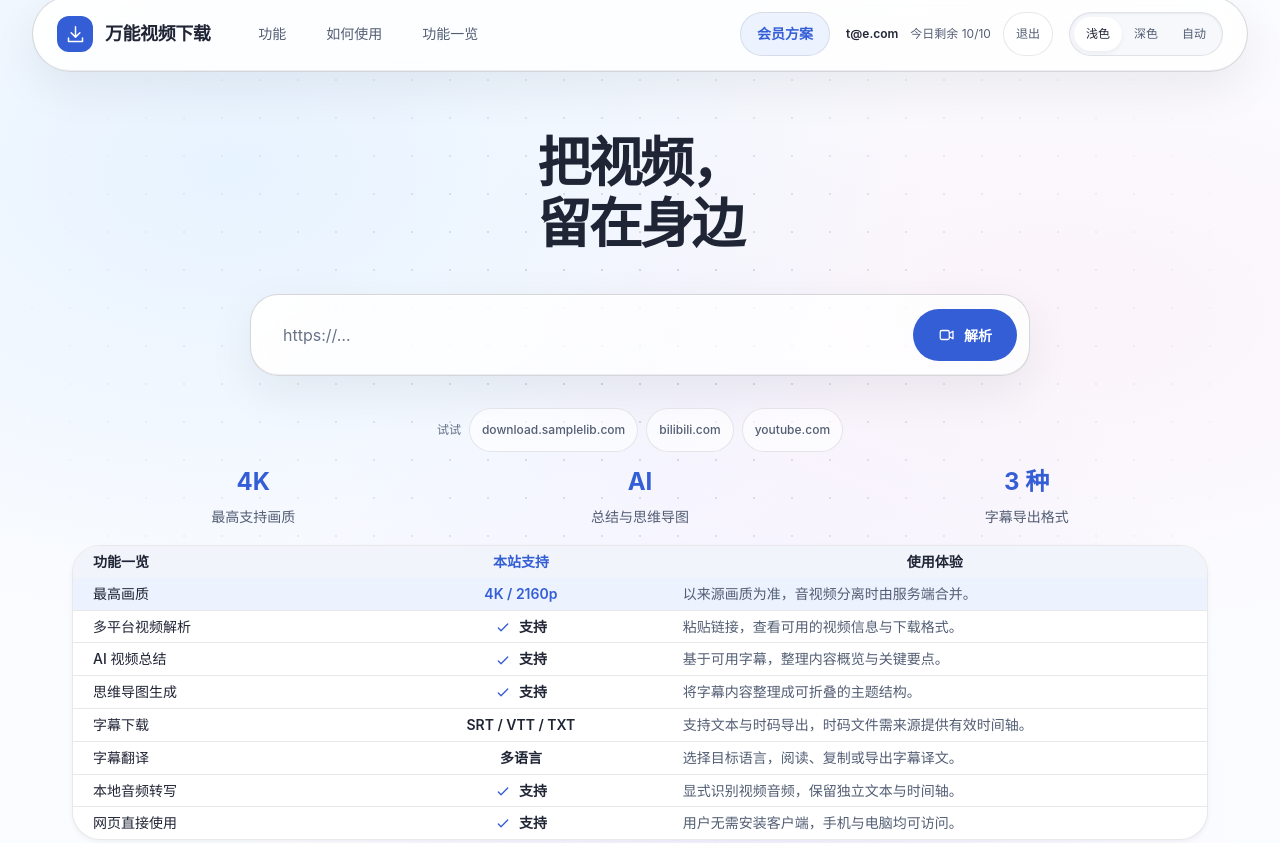
Test case: App 功能闭环 › 免费账号解析选择可用720p，高清可见但不可点击
Type "https://example.com/free" into the field named "视频链接".
click(582, 335); type("https://example.com/free")  # box [263,307,901,363]
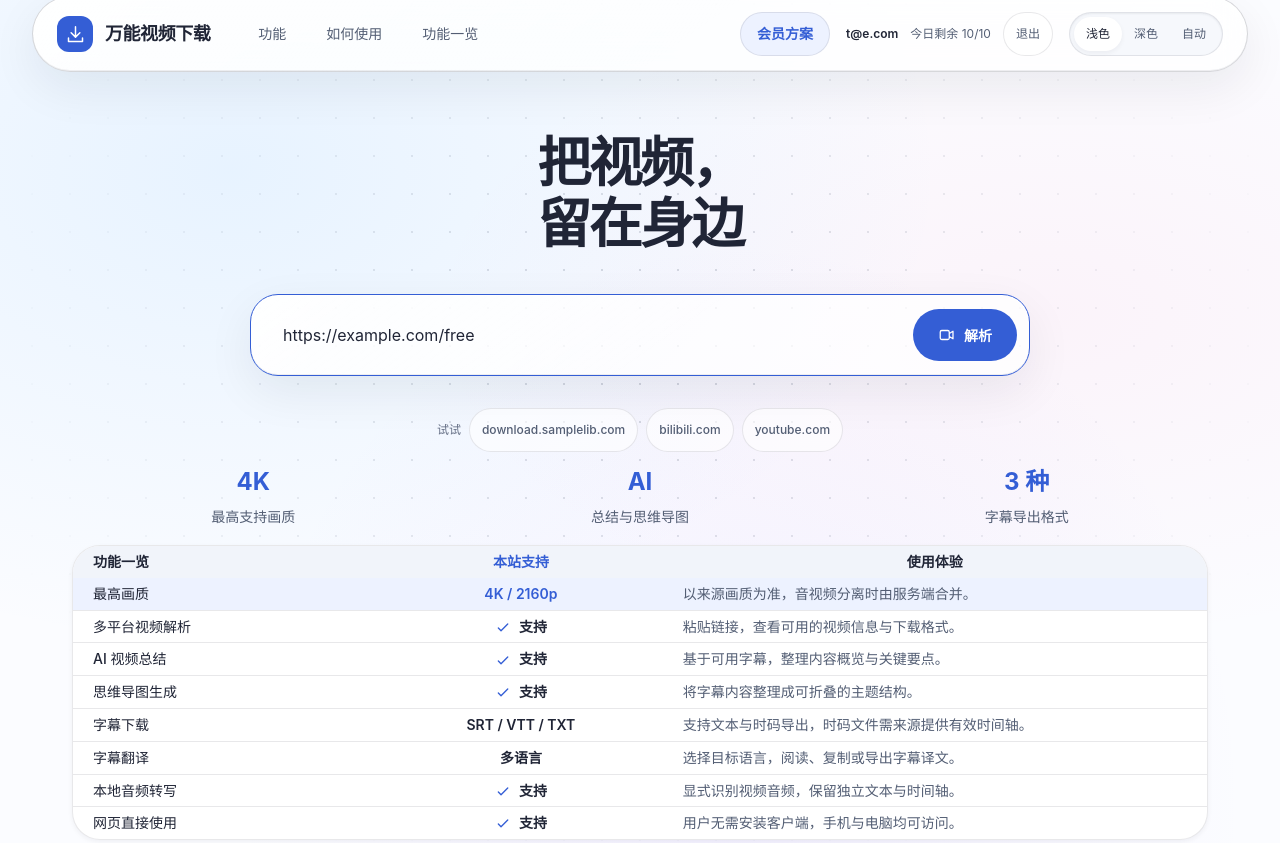
Click the button "解析".
click(965, 335)  # box [913,309,1017,361]
(page scrolled)
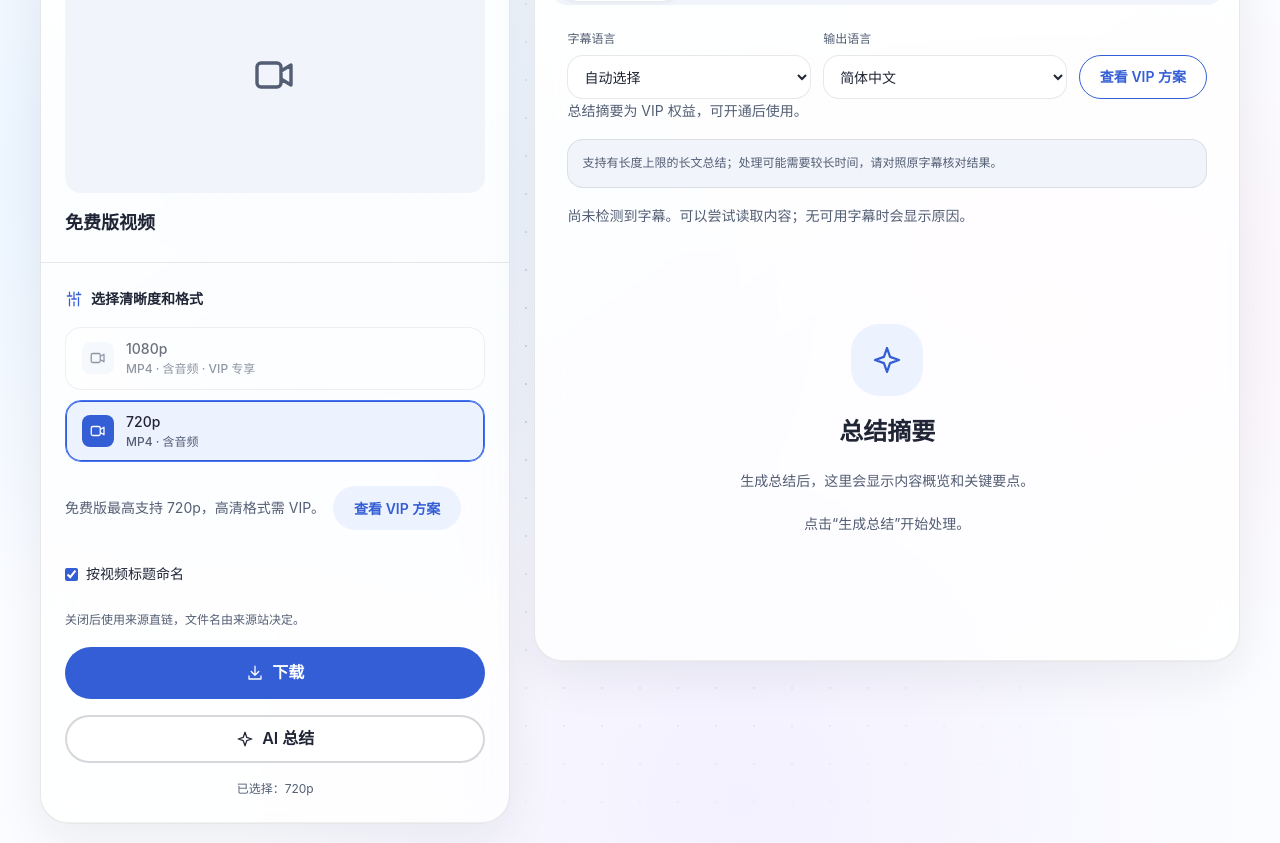
Expected: the button "1080p MP4 · 含音频 · VIP 专享" is disabled, [65,327,485,390]
Click the button "AI 总结".
click(275, 738)  # box [65,714,485,762]
(page scrolled)
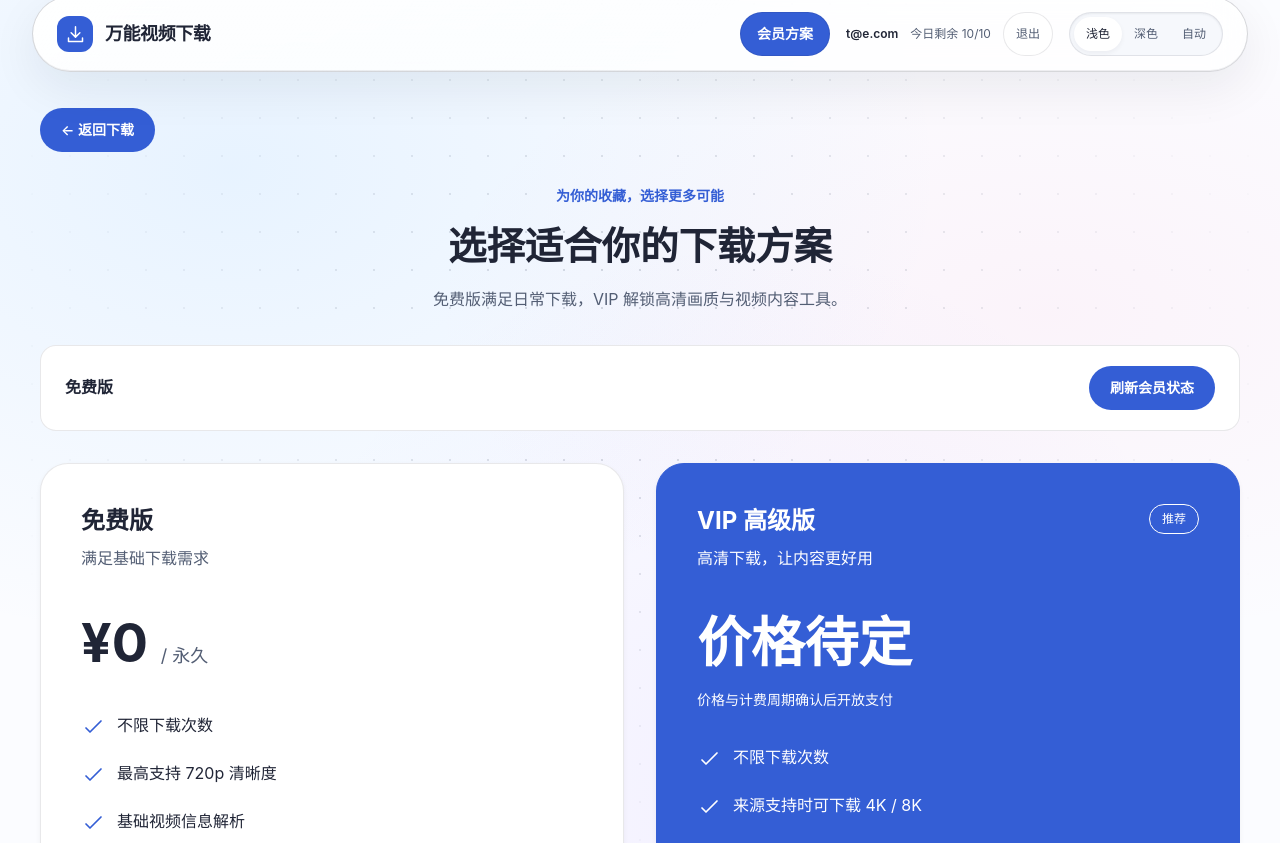
Expected: the heading "选择适合你的下载方案" is shown, [448,223,832,269]
